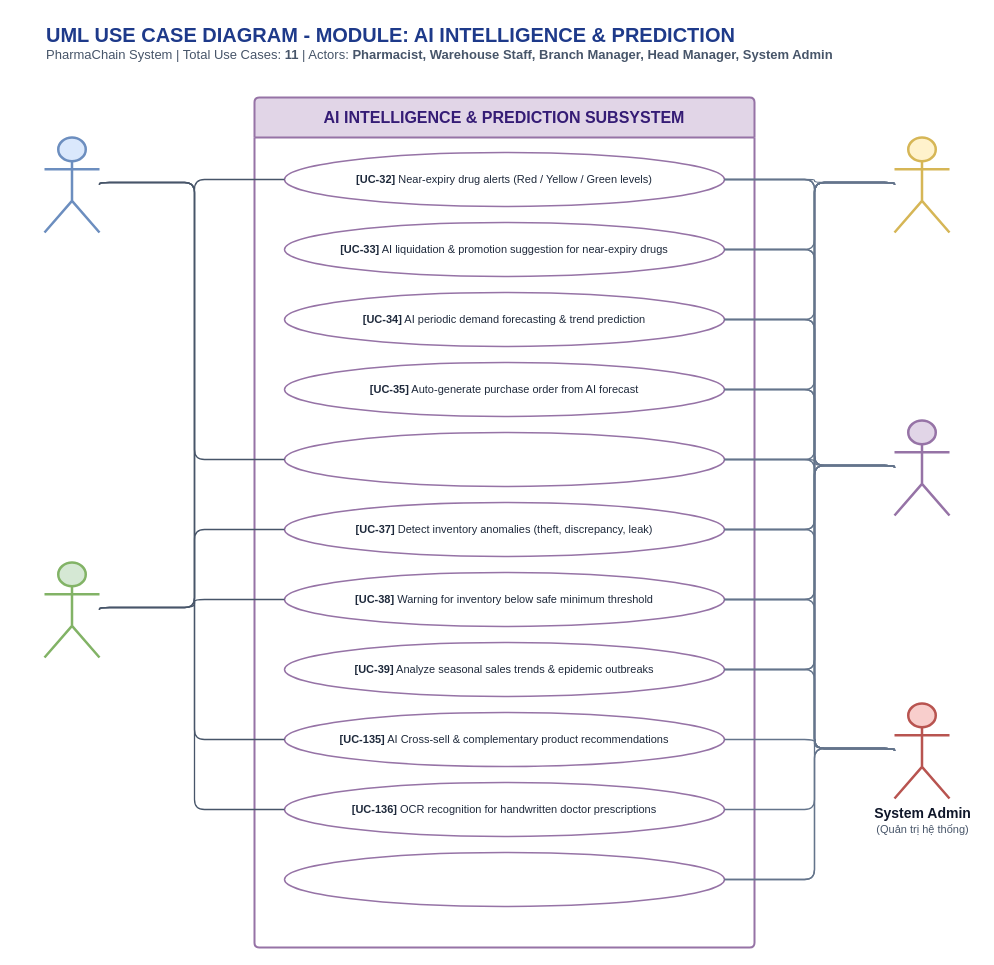
Some shapes in this 994 by 965 pixel diagram are drawn without their labels. Here are the shapes that lost their labels. From the top down, the centre of each, then its label:
At (71,184): "Pharmacist (Dược sĩ)".
At (921,184): "Branch Manager (Quản lý Chi nhánh)".
At (504,459): "[UC-36] AI equivalent substitute drug suggestion for out-of-stock".
At (921,467): "Head Manager (Quản lý Chuỗi/Tổng)".
At (71,609): "Warehouse Staff (Thủ kho)".
At (504,879): "[UC-154] AI predictive supply chain disruption risk alerts".
